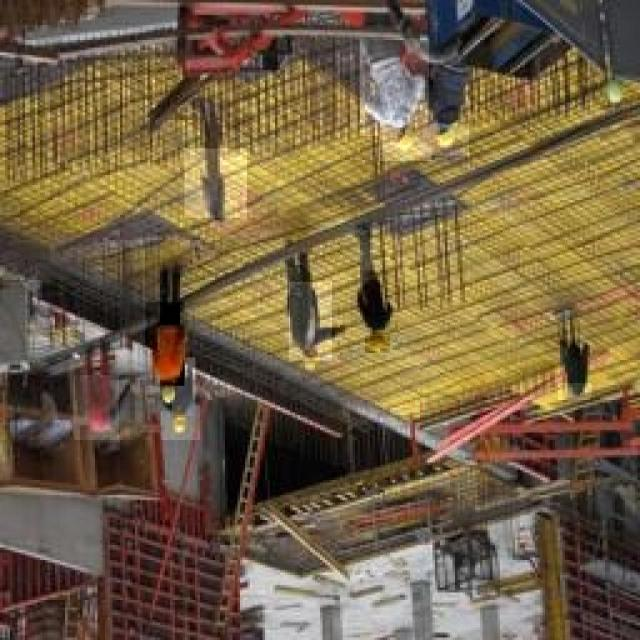Helmet: (359, 38, 429, 136), (185, 148, 247, 218), (416, 50, 474, 124), (544, 324, 604, 383), (289, 282, 332, 361), (351, 270, 399, 336), (73, 375, 119, 440), (379, 104, 431, 161), (283, 331, 337, 384), (425, 119, 469, 156), (197, 197, 237, 233), (172, 357, 196, 416), (161, 405, 200, 440), (150, 370, 184, 410), (558, 376, 592, 400), (365, 321, 390, 353)
Safety Vest: (146, 302, 184, 386)
